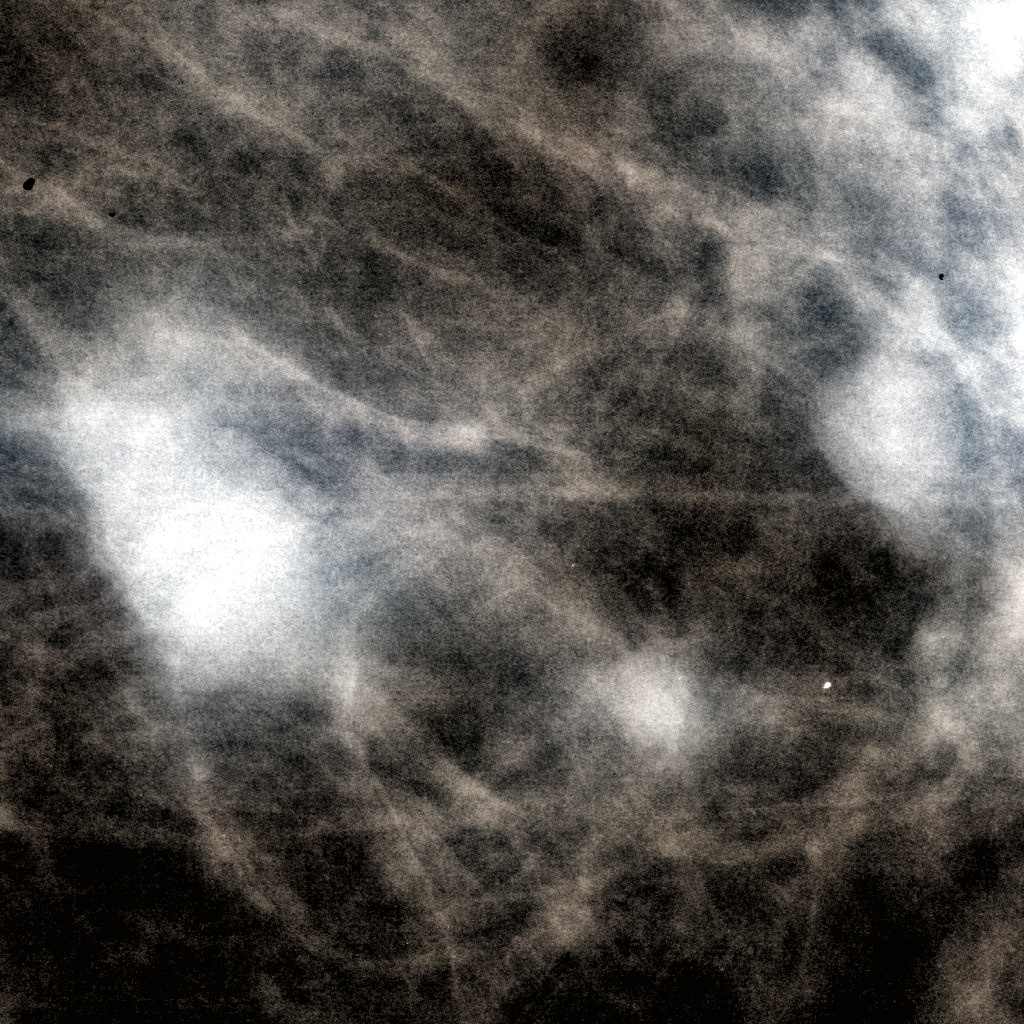tumor: (41, 387, 333, 707), (792, 317, 983, 560)
